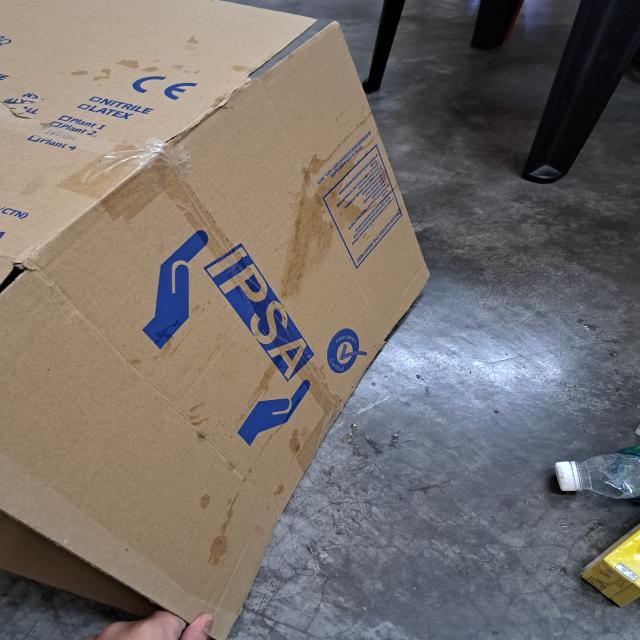cardboard: (0, 0, 428, 640)
drink carton: (580, 521, 640, 607)
plastic bottle: (554, 446, 640, 501)
plastic bottle cap: (556, 459, 580, 494)
